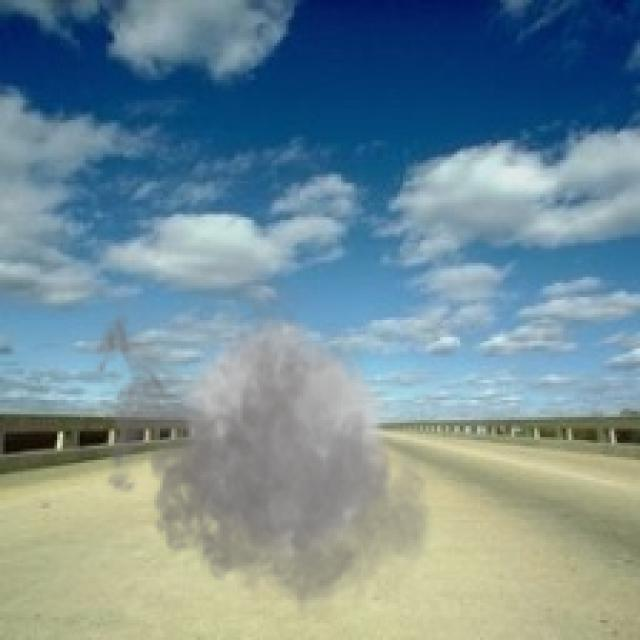Smoke: (83, 252, 446, 632)
